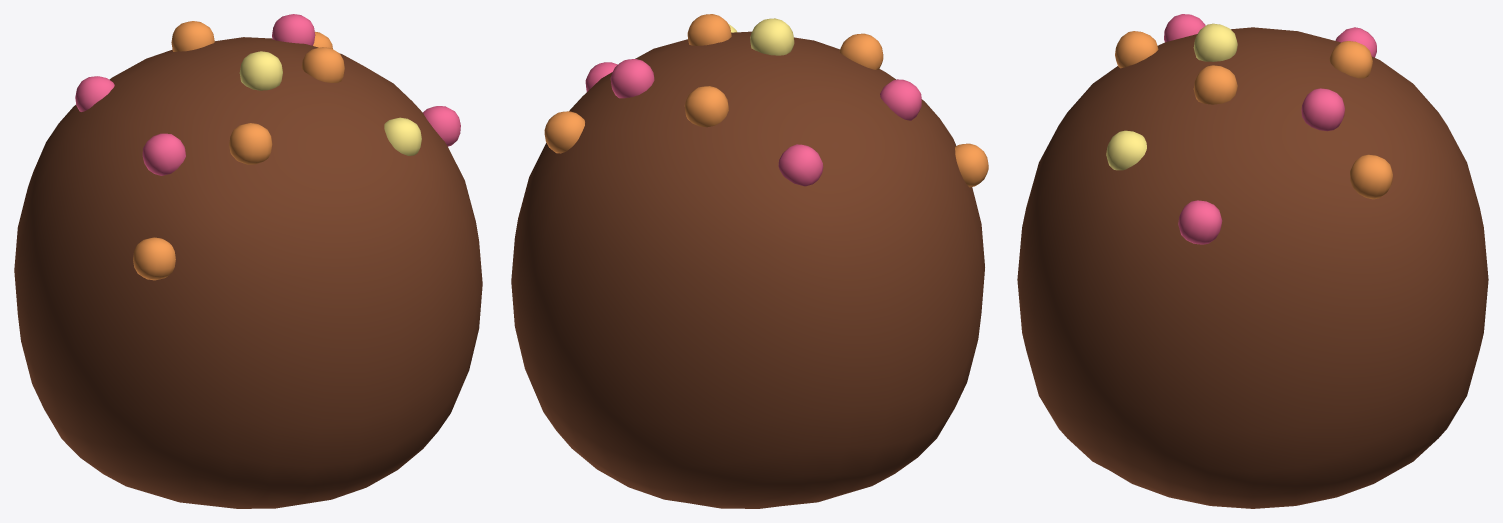
The model's file is Truffle_01.fbx.
3 views of the same model, side by side, from view 1: azimuth 30°, elevation 25°; view 2: azimuth 150°, elevation 25°; view 3: azimuth 270°, elevation 25° (orthographic).
Parts seen in each view (by area): view 1: Truffle_01_LOD0; view 2: Truffle_01_LOD0; view 3: Truffle_01_LOD0.
Part boxes in pixels (box(x1,y1,x2,y2)): Truffle_01_LOD0: box(14, 14, 482, 508); Truffle_01_LOD0: box(511, 14, 988, 508); Truffle_01_LOD0: box(1017, 14, 1488, 508).
Size of what is drawn, in the model's own units: 396 by 409 by 396.
